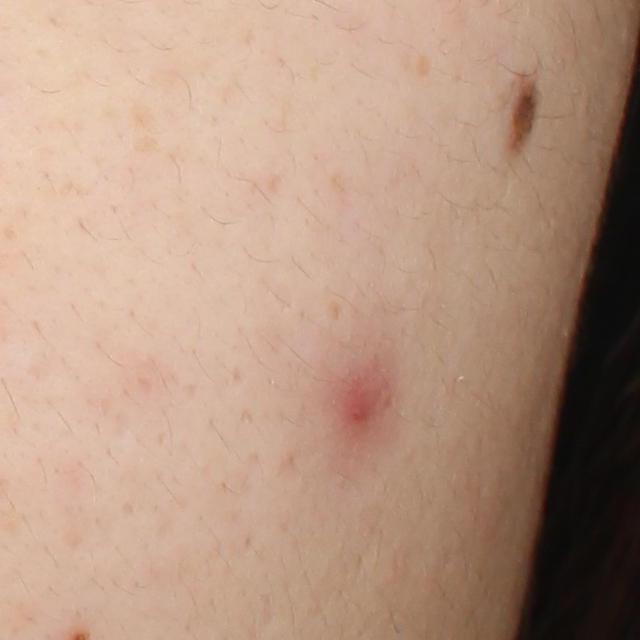nevus: (503, 65, 551, 173)
